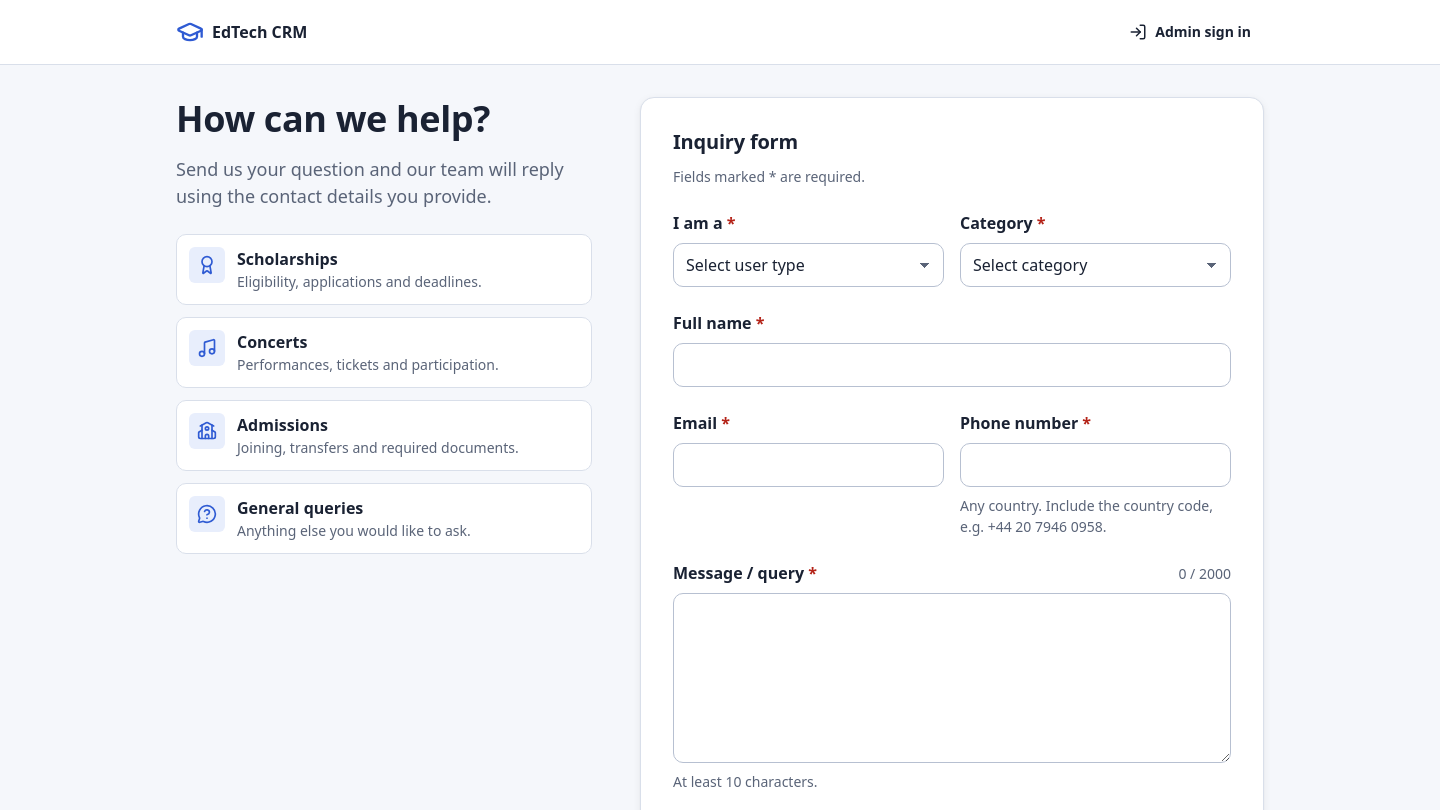
it: public inquiry form › shows a specific message for {"name":"ApiError","status":0,"code":"NETWORK_ERROR"}
This screenshot has width=1440, height=810.
Select "Parent" in the dropdown labelled "I am a *" at [808, 265], box [673,243,944,287]
Select "Admission" in the dropdown labelled "Category *" at [1096, 265], box [960,243,1231,287]
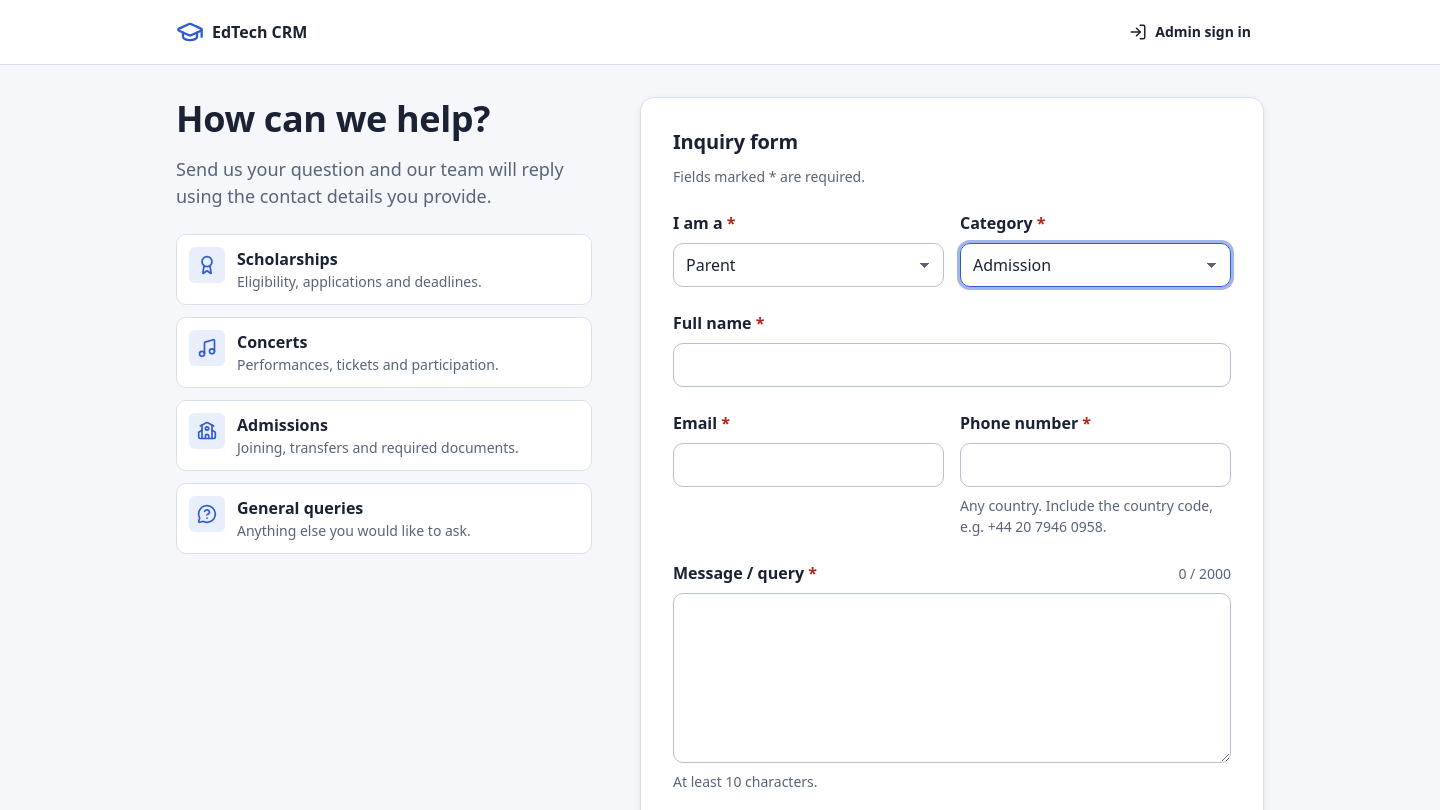
Type "Asha Verma" into the field labelled "Full name *" at [952, 365], box [673,343,1231,387]
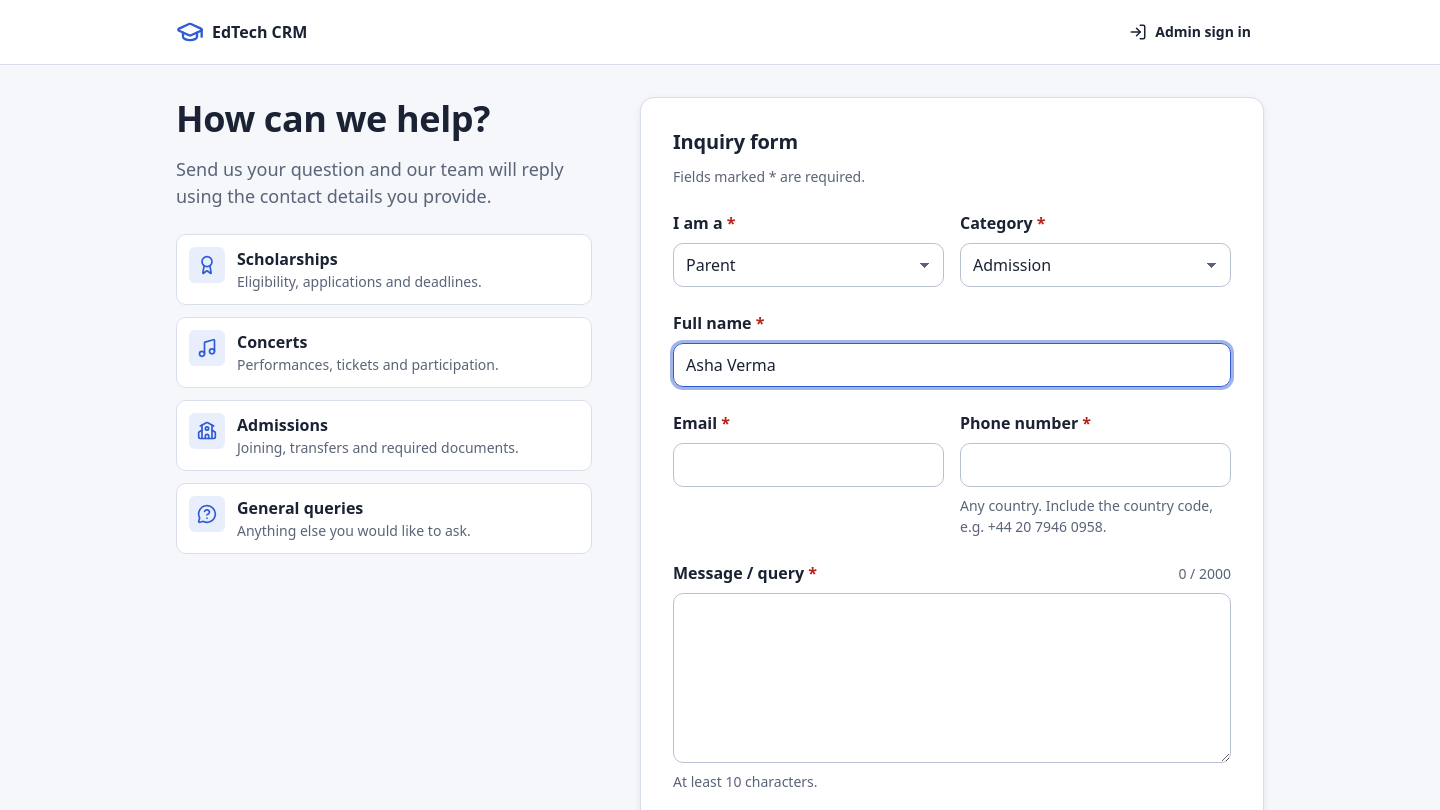
Type "asha@example.com" into the field labelled "Email *" at [808, 465], box [673,443,944,487]
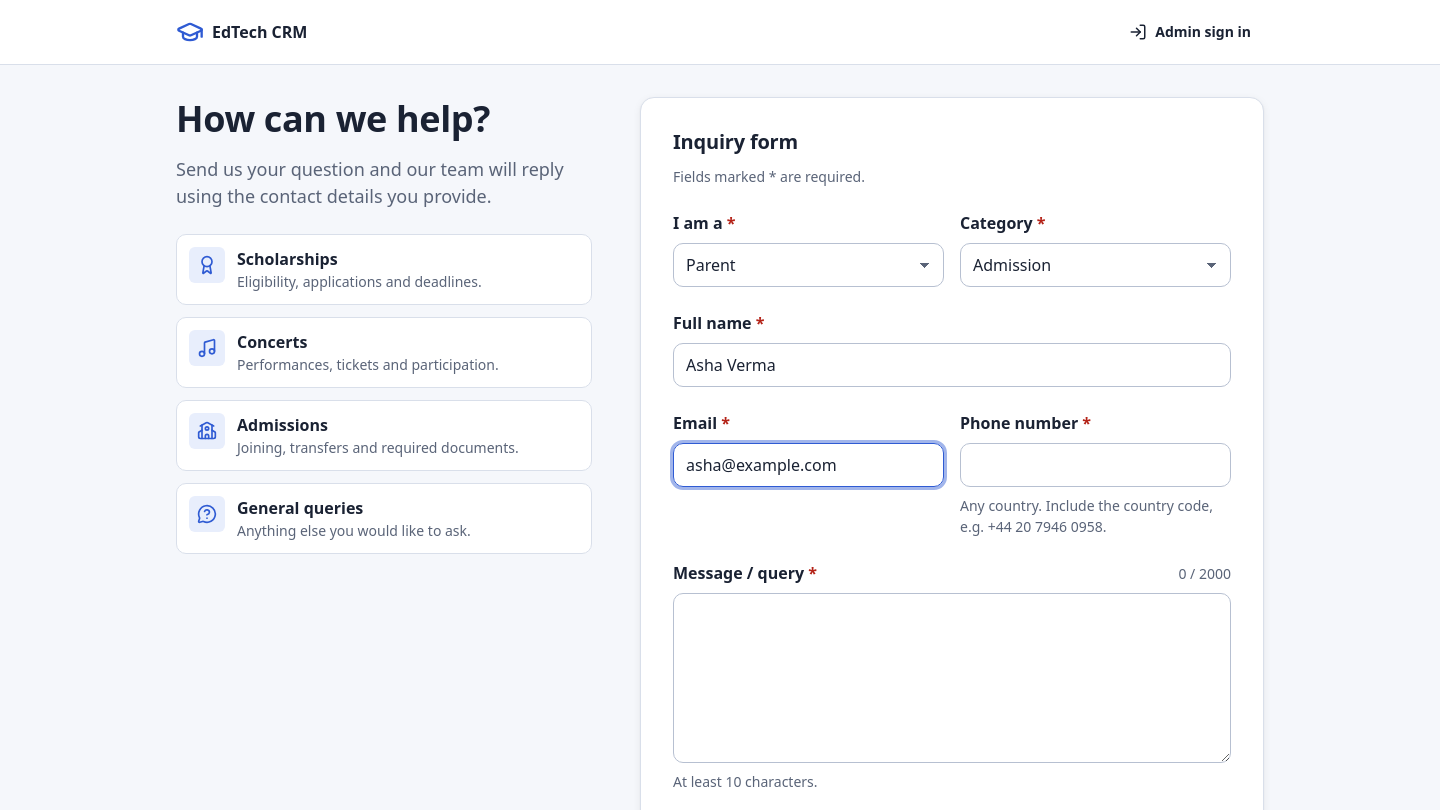
Type "+91 98765 43210" into the field labelled "Phone number *" at [1096, 465], box [960,443,1231,487]
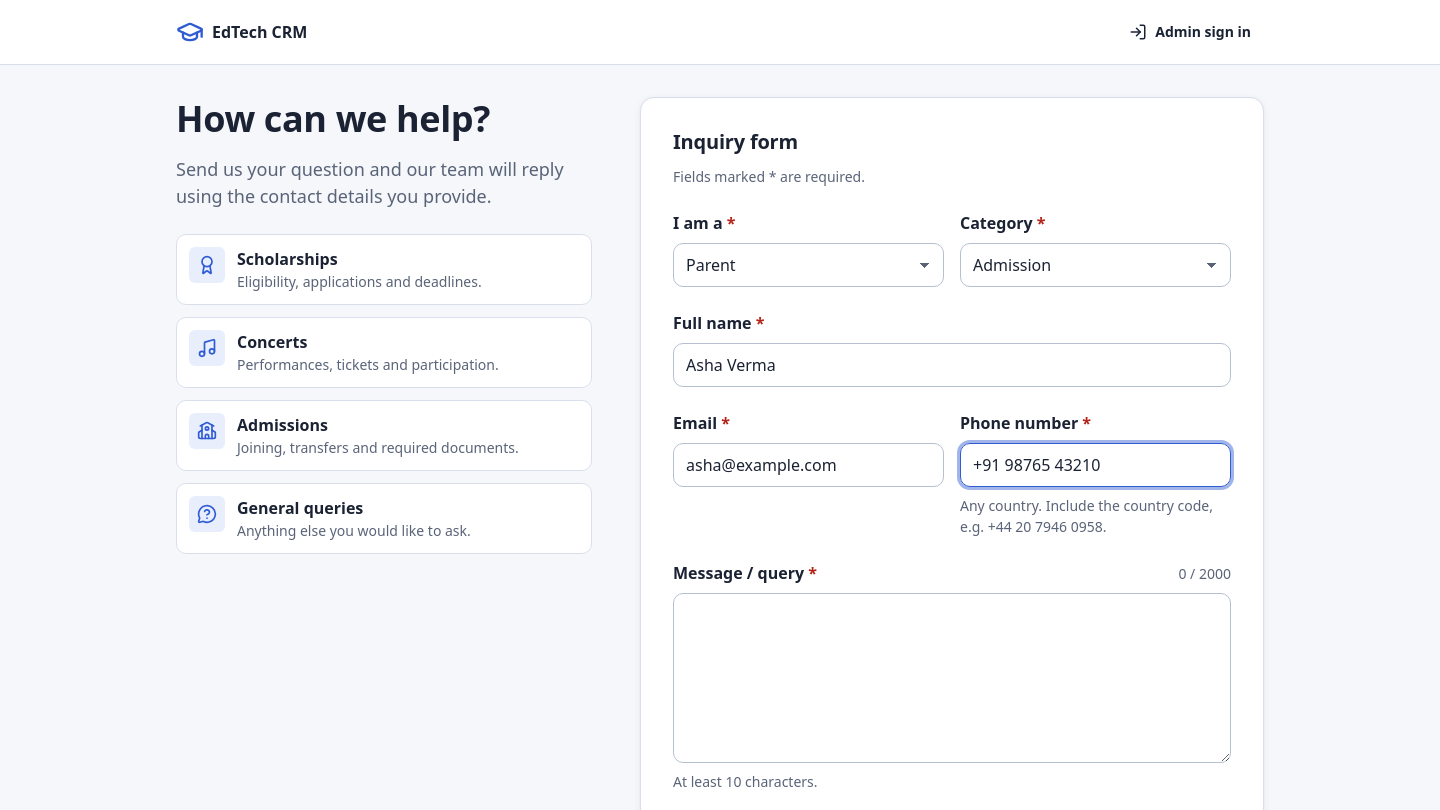
Type "When does admission open for grade 6?" into the text box labelled "Message / query *" at [952, 678], box [673,593,1231,763]
(page scrolled)
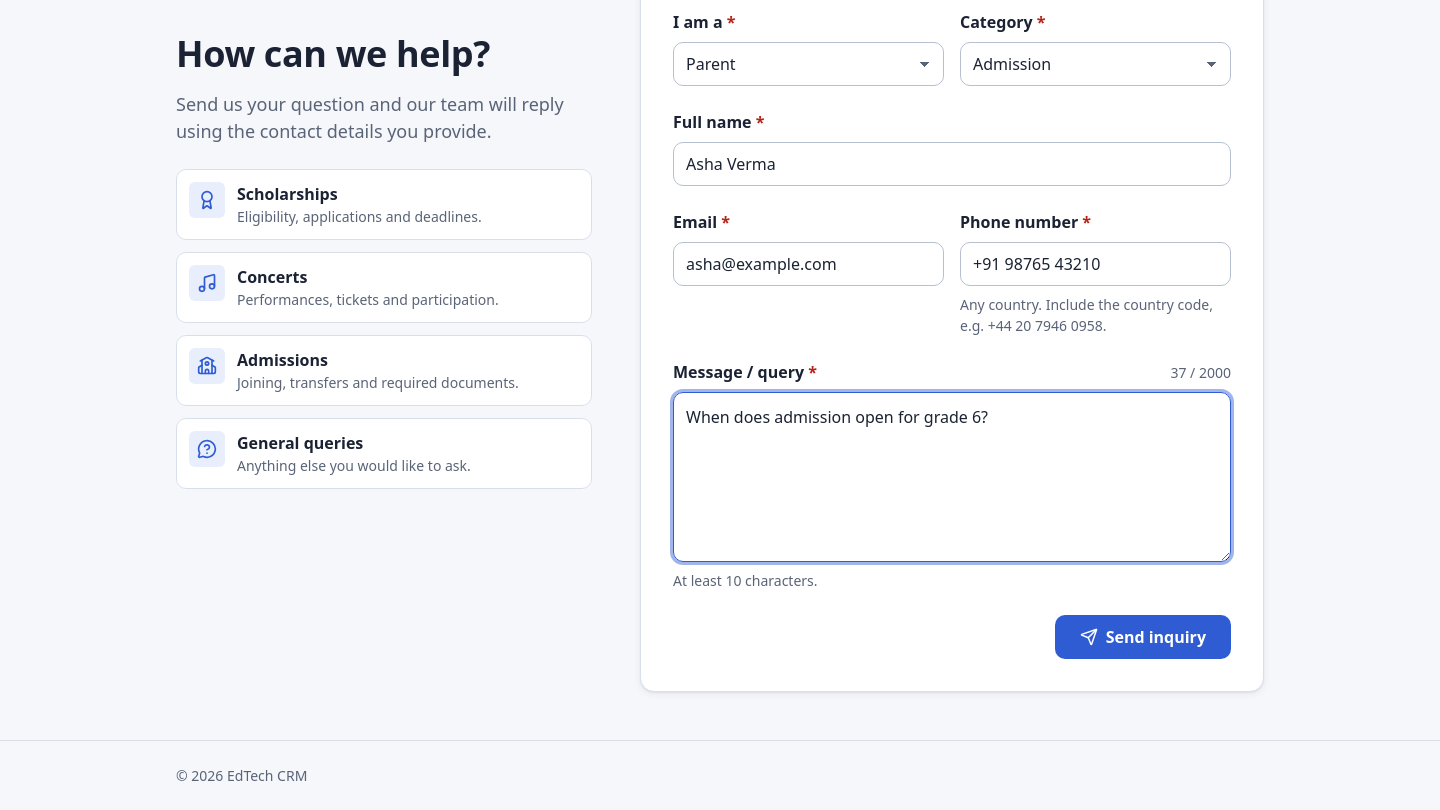
Click the button "Send inquiry" at [1143, 637], box [1055,615,1231,659]
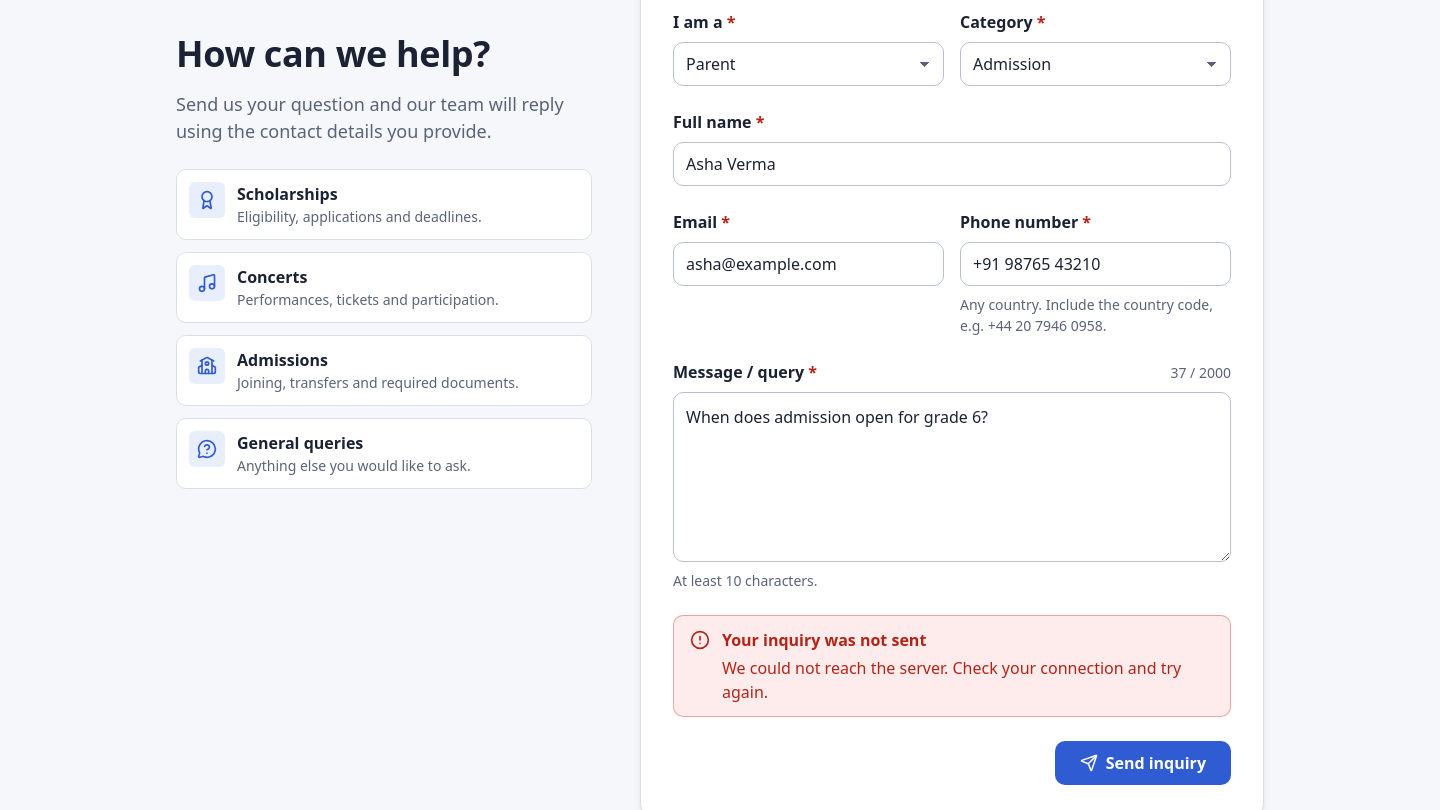
Expected: the message shows "could not reach the server", [722,657,1181,703]
